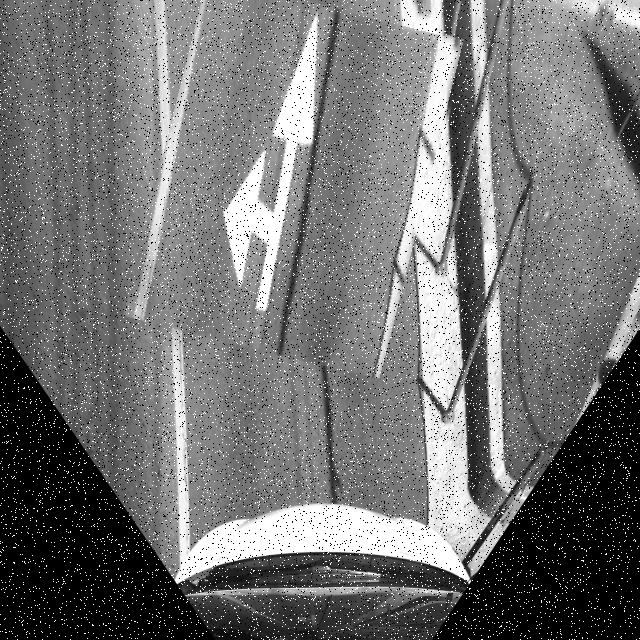forward_left: (142, 0, 445, 365)
